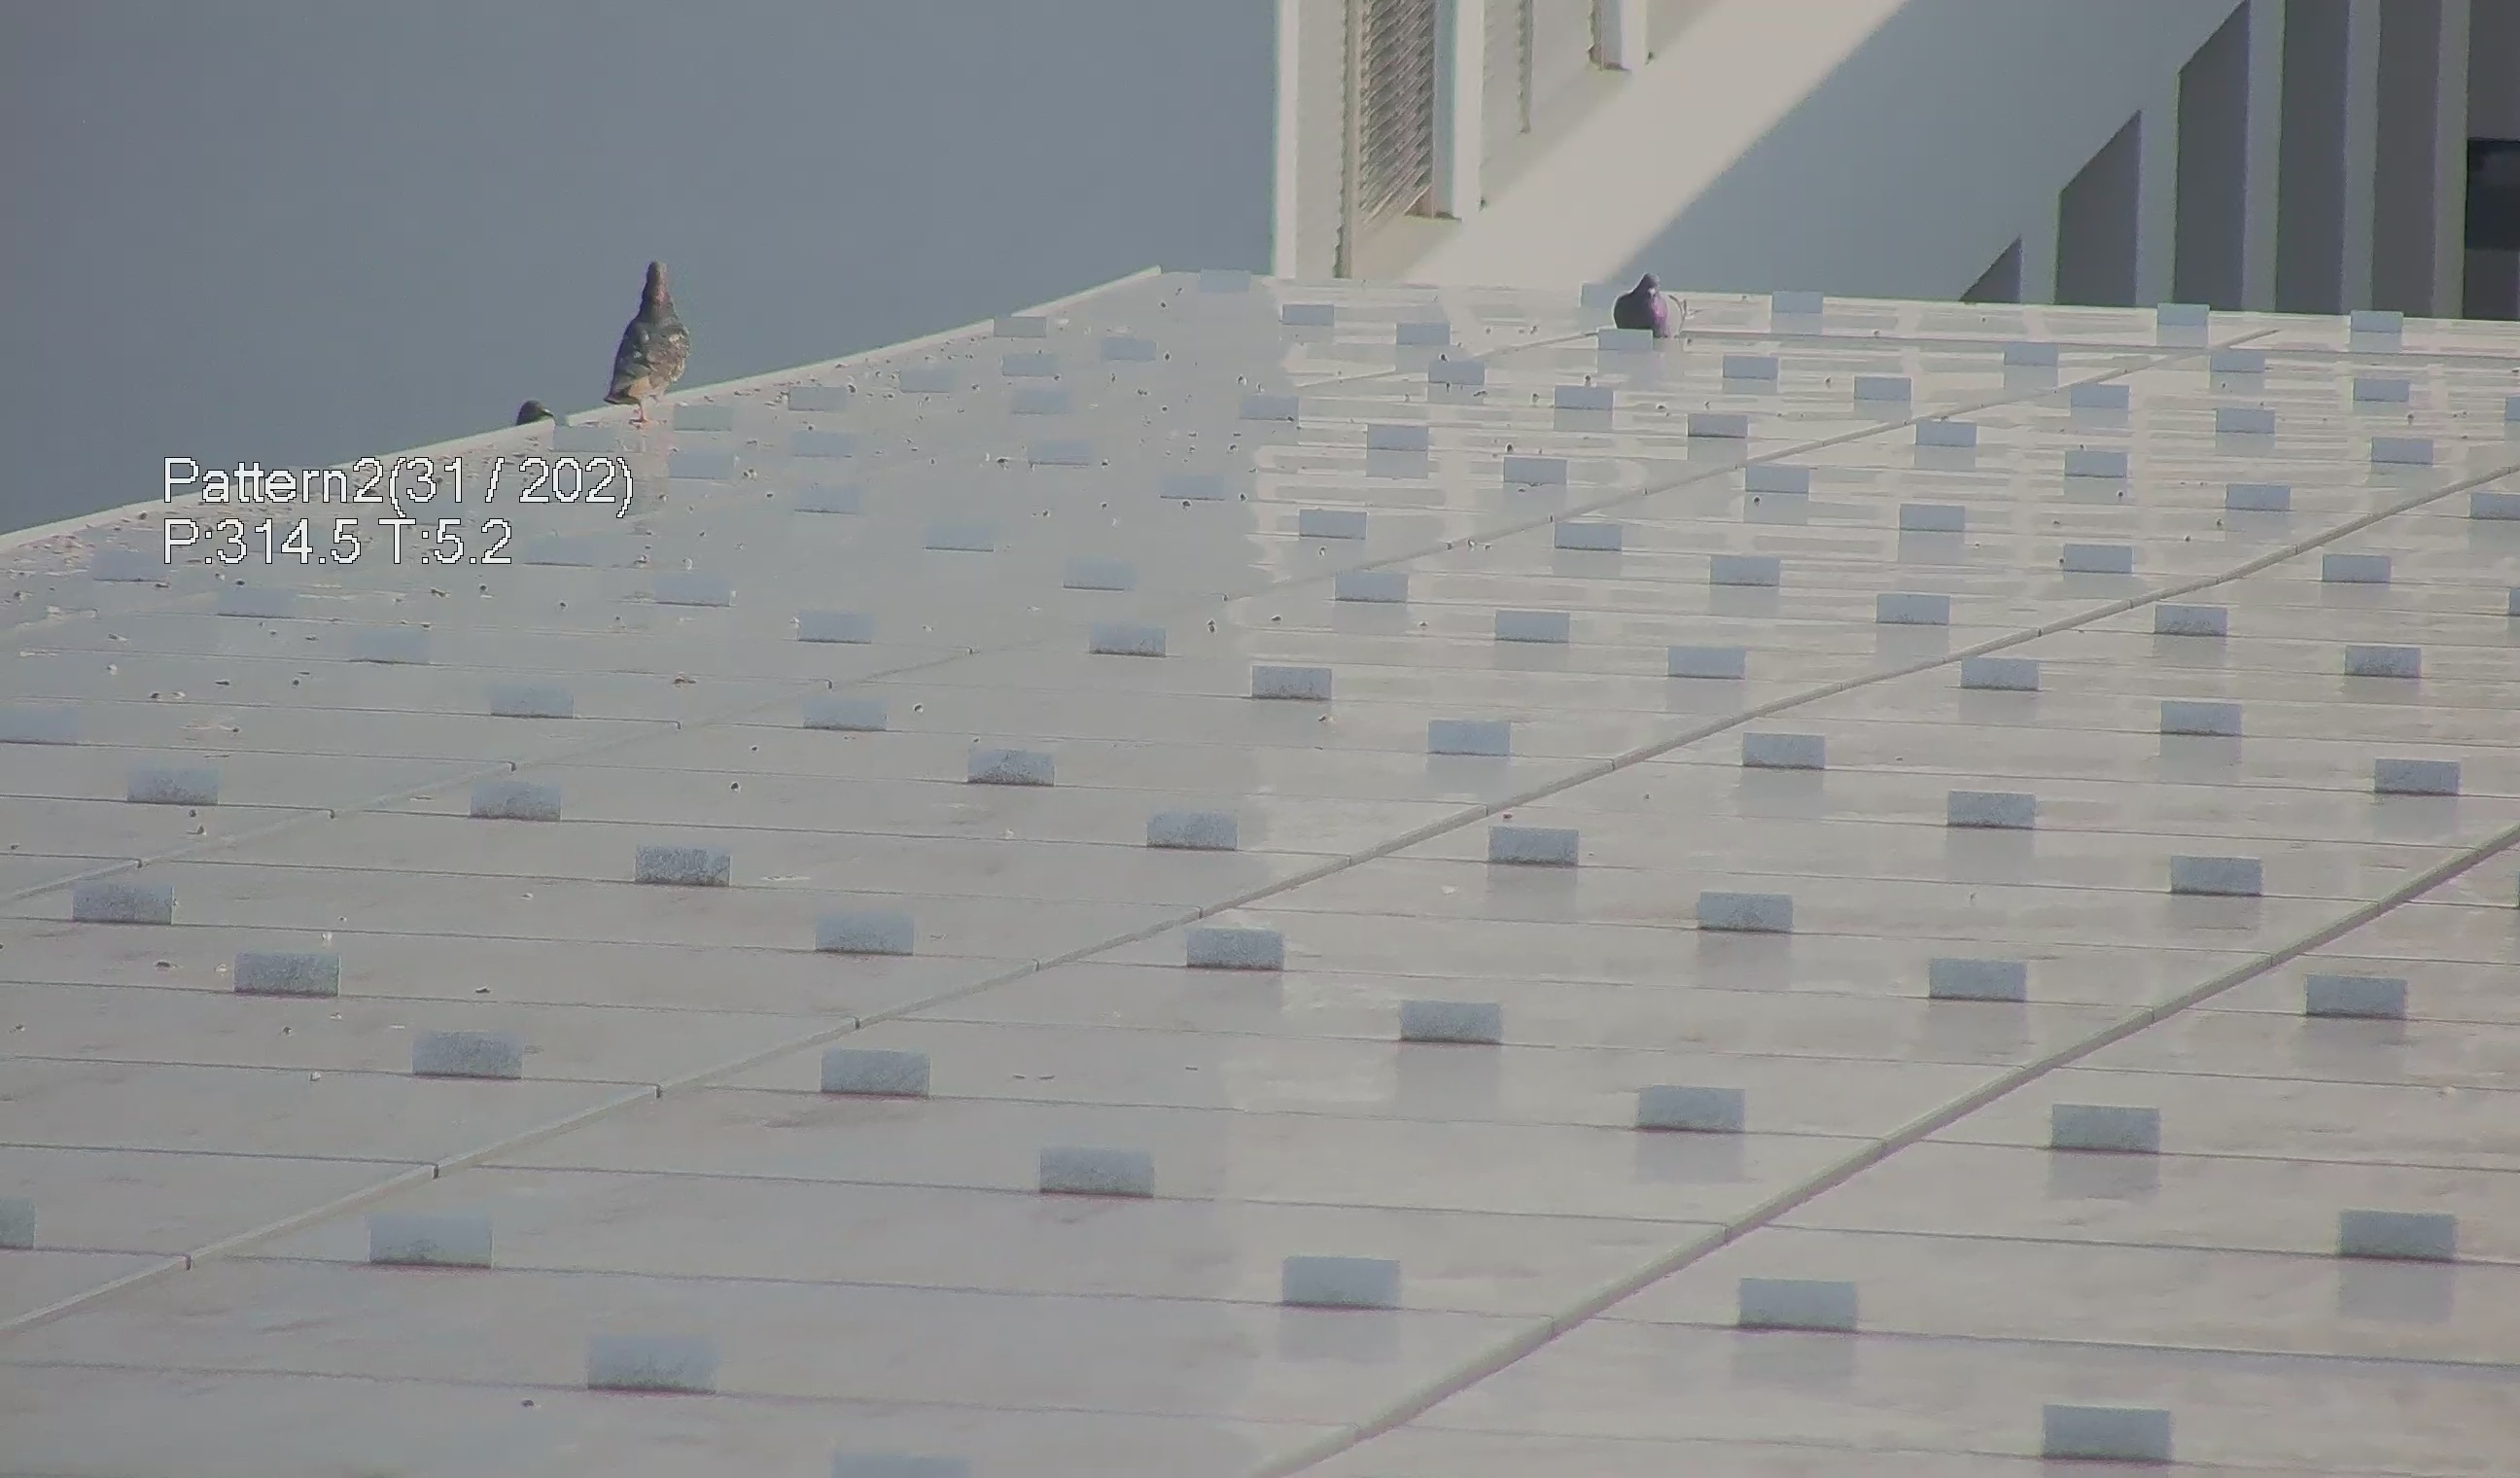Pigeon: (584, 243, 682, 408), (1597, 271, 1702, 345)
